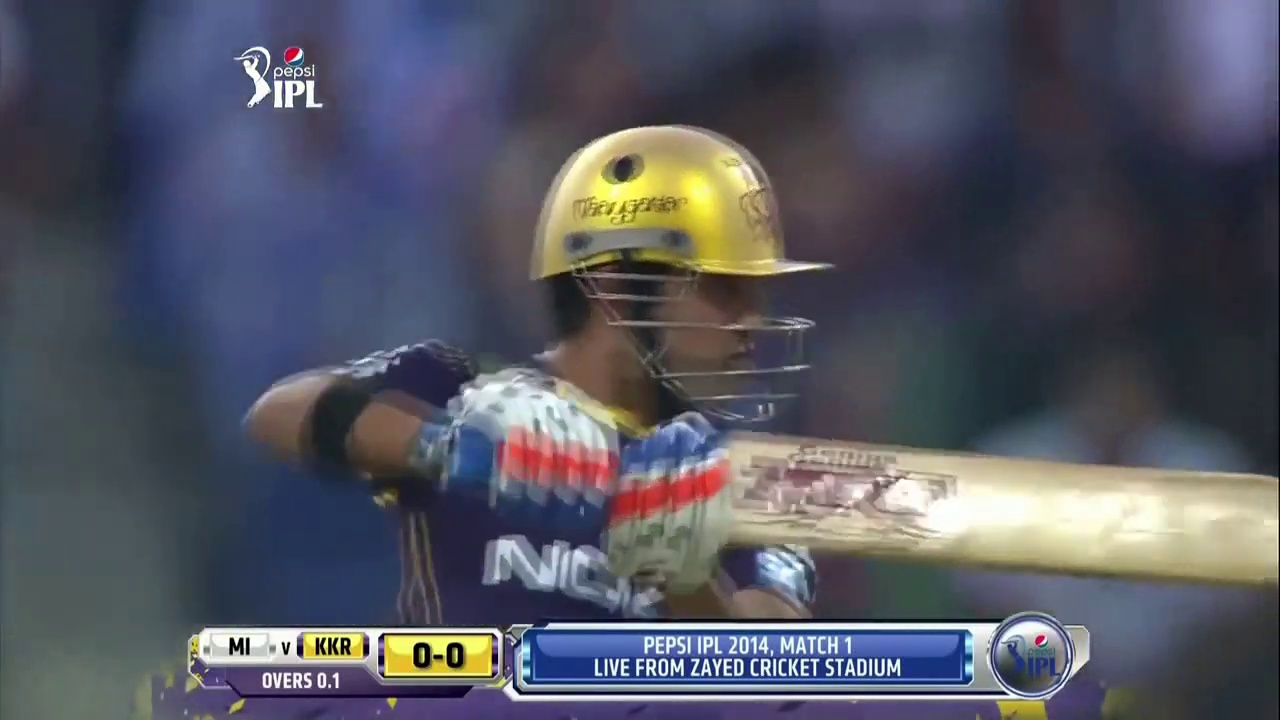bat: (897, 442, 1277, 587)
